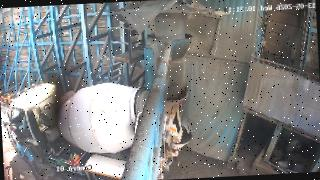cement_mixer_truck: (0, 74, 191, 180)
swing_chute: (148, 34, 193, 91)
